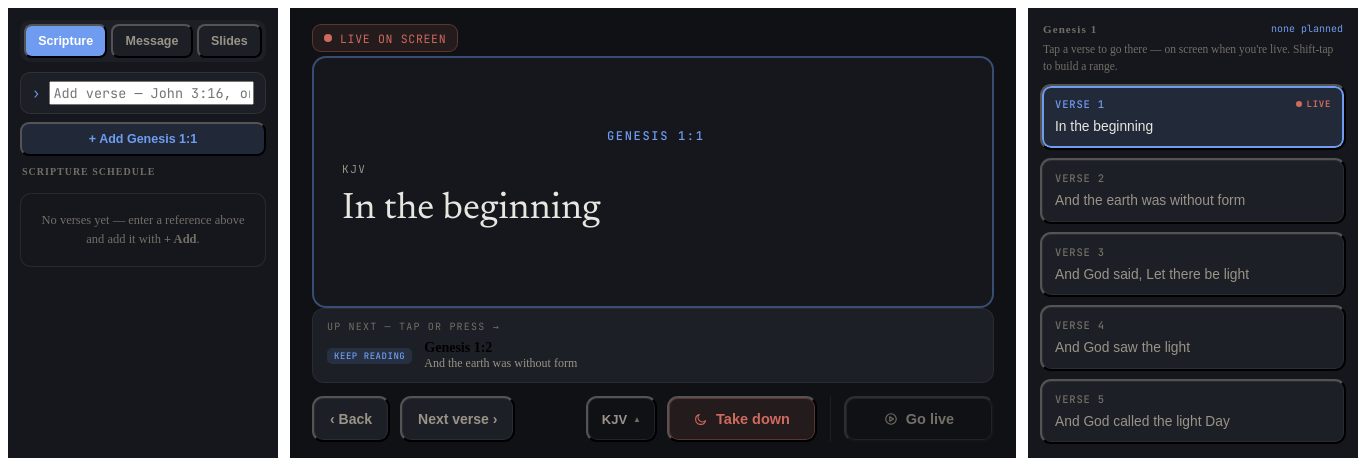
Test: SermonMode — double-click a verse goes live (#58) › shift-double-click while live moves the cursor onto the verse it takes
Expected: the text "Verse 4" is shown, [1055,318,1105,332]
Click the button "Verse 4 And God saw the light".
click(1193, 338)  # box [1040,305,1346,371]
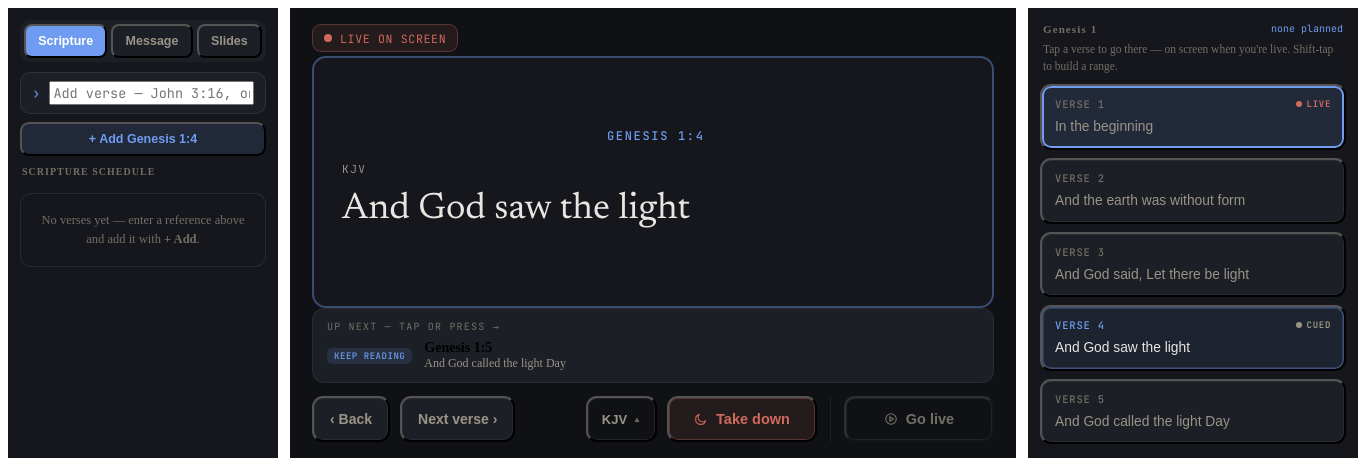
Now the text "Genesis 1:4" is shown, box [607,128,705,144]
Click the button "Verse 2 And the earth was without form".
click(1193, 191)  # box [1040,158,1346,224]
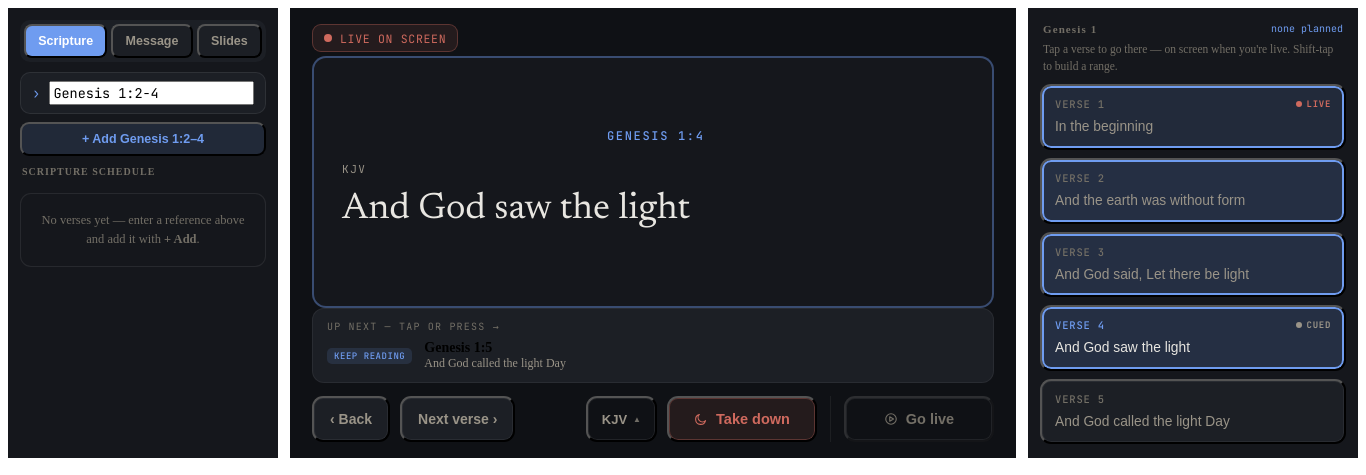
Now the button "Verse 2 And the earth was without form" has attribute data-selected="true"
Double-click the button "Verse 2 And the earth was without form".
double_click(1193, 191)  # box [1040,158,1346,224]
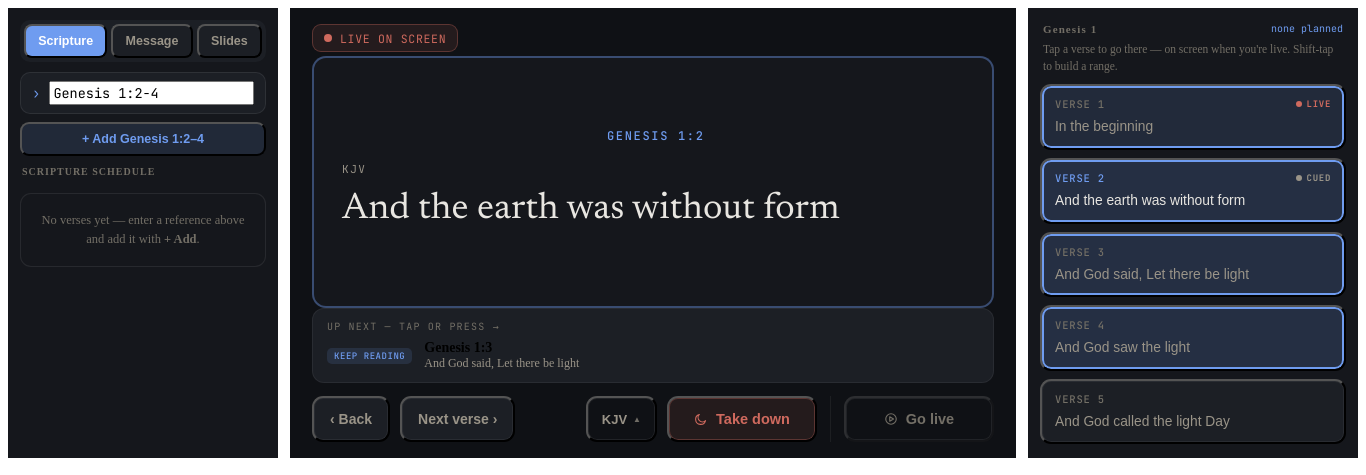
Now the text "Genesis 1:2" is shown, box [607,128,705,144]
Now the text "Genesis 1:4" is gone
